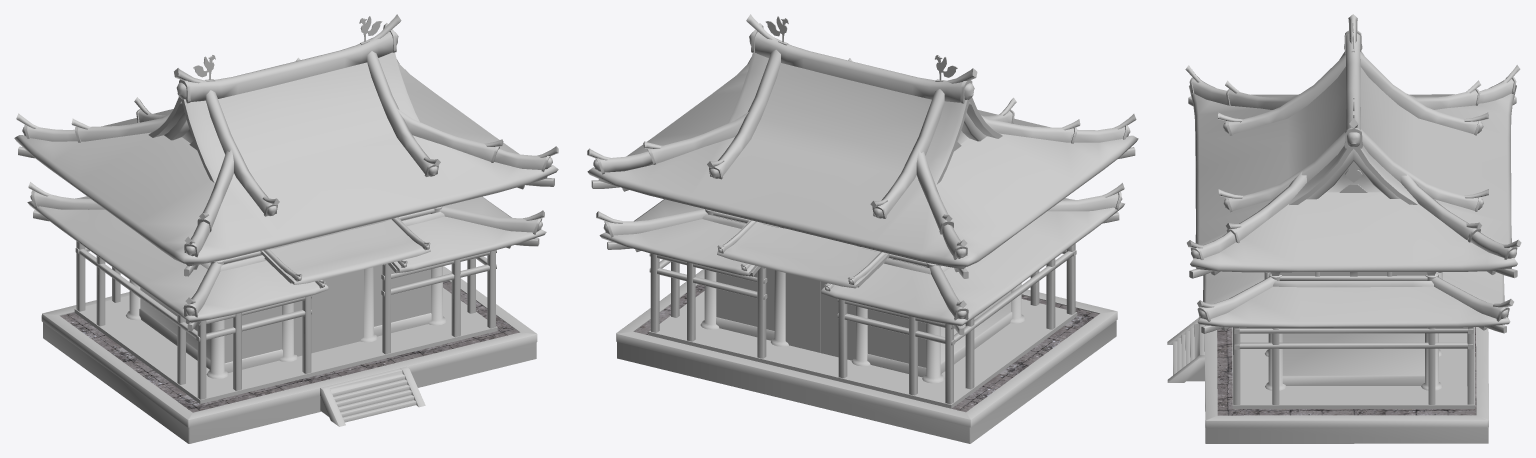
File: SM_AsianCastle_B.FBX
3 views of the same model, side by side, from view 1: azimuth 30°, elevation 25°; view 2: azimuth 150°, elevation 25°; view 3: azimuth 270°, elevation 25° (orthographic). The views are drawn at different scales.
Visible parts, largest first — view 1: SM_AsianCastle_B; view 2: SM_AsianCastle_B; view 3: SM_AsianCastle_B.
Boxes of the visible parts, left/top/right/bottom form: SM_AsianCastle_B: left=14, top=14, right=558, bottom=443; SM_AsianCastle_B: left=587, top=14, right=1138, bottom=443; SM_AsianCastle_B: left=1167, top=14, right=1521, bottom=443.
Size of the model in its own units: 1978 by 1656 by 1553.
